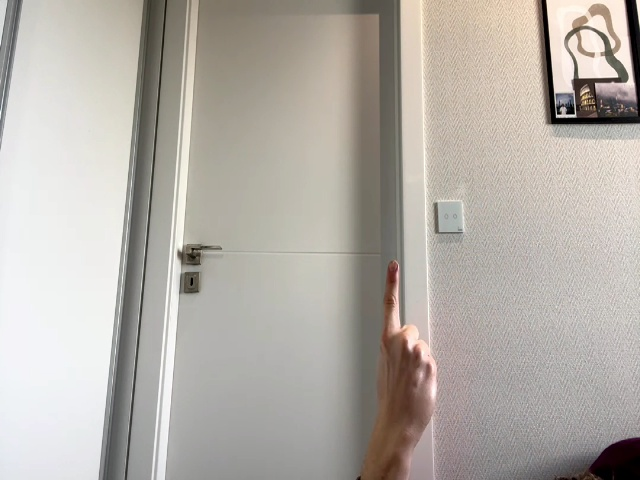D: (376, 260, 437, 438)
